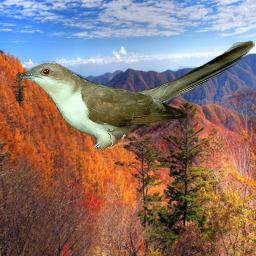Cuckoo: (15, 39, 255, 149)
